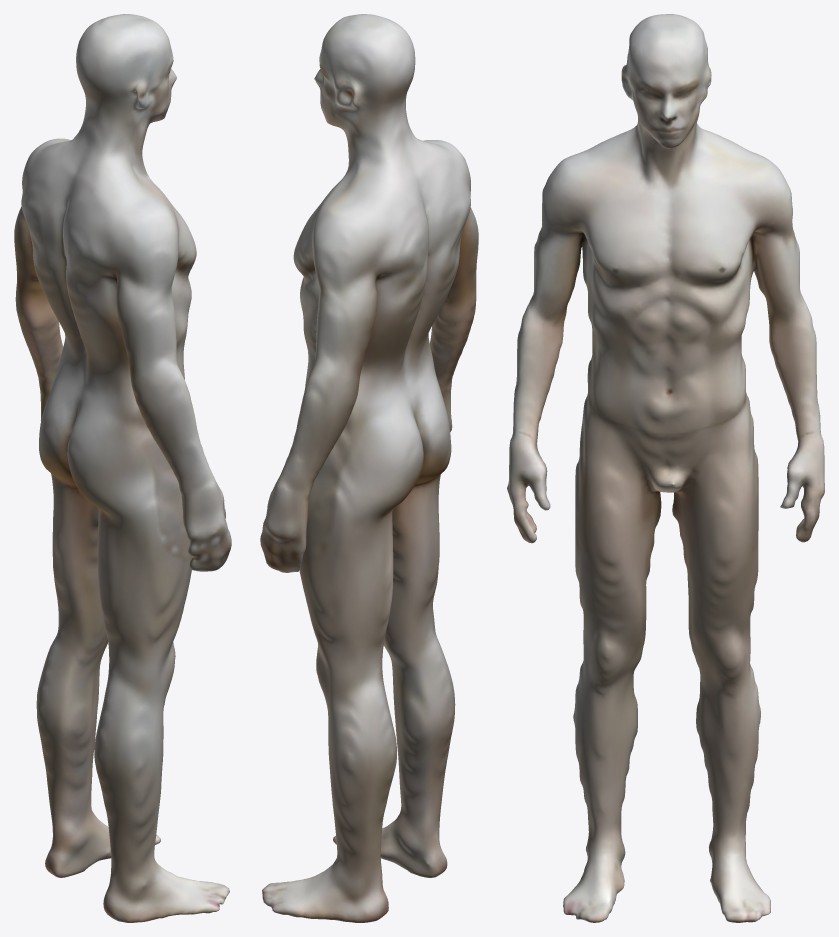
Rendered from human_body.glb.
The picture shows the model from 3 angles, left to right: view 1: azimuth 30°, elevation 25°; view 2: azimuth 150°, elevation 25°; view 3: azimuth 270°, elevation 25°; orthographic projection.
Parts seen in each view (by area): view 1: tripo_node_90164ffb-88ac-4ad8-8465-d11aa1807203; view 2: tripo_node_90164ffb-88ac-4ad8-8465-d11aa1807203; view 3: tripo_node_90164ffb-88ac-4ad8-8465-d11aa1807203.
Boxes of the visible parts, box(x1,y1,x2,y2) form: tripo_node_90164ffb-88ac-4ad8-8465-d11aa1807203: box(14, 14, 231, 922); tripo_node_90164ffb-88ac-4ad8-8465-d11aa1807203: box(260, 14, 478, 922); tripo_node_90164ffb-88ac-4ad8-8465-d11aa1807203: box(507, 14, 824, 922).
Bounding box in the file's own units: 0.1688 × 1 × 0.3305.
1 material, 1 textured.
